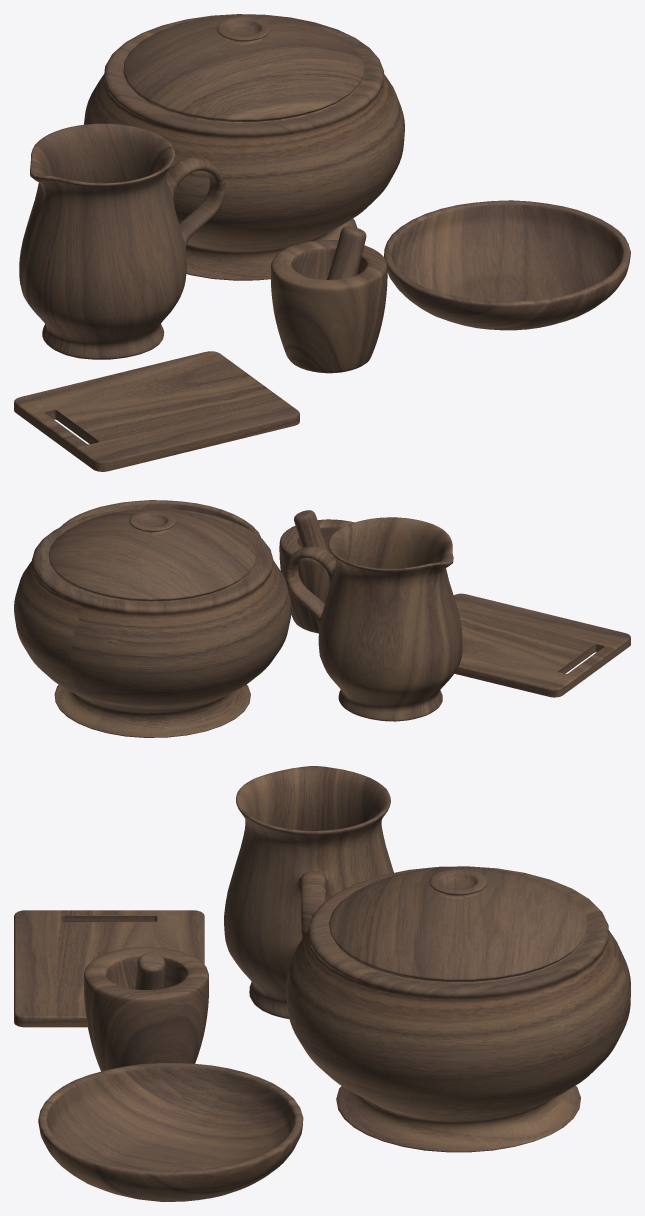
File: household objects.glb
3 views of the same model, one above another, from view 1: azimuth 30°, elevation 25°; view 2: azimuth 150°, elevation 25°; view 3: azimuth 270°, elevation 25° (orthographic). The views are drawn at different scales.
Visible parts, largest first — view 1: Mesh3_lambert10_0, Mesh6_lambert10_0, Mesh1_lambert10_0, pPlane1, polySurface3; view 2: Mesh3_lambert10_0, Mesh6_lambert10_0, pPlane1, polySurface3, Mesh1_lambert10_0; view 3: Mesh3_lambert10_0, Mesh1_lambert10_0, Mesh6_lambert10_0, pPlane1, polySurface3.
Part boxes in pixels (left/top/right/bottom): Mesh3_lambert10_0: left=84, top=14, right=404, bottom=280; Mesh6_lambert10_0: left=19, top=123, right=225, bottom=359; Mesh1_lambert10_0: left=384, top=200, right=630, bottom=330; pPlane1: left=14, top=351, right=299, bottom=471; polySurface3: left=271, top=226, right=387, bottom=373; Mesh3_lambert10_0: left=14, top=508, right=291, bottom=737; Mesh6_lambert10_0: left=285, top=517, right=462, bottom=721; pPlane1: left=453, top=593, right=630, bottom=697; polySurface3: left=279, top=510, right=354, bottom=633; Mesh1_lambert10_0: left=60, top=500, right=260, bottom=537; Mesh3_lambert10_0: left=286, top=866, right=630, bottom=1152; Mesh1_lambert10_0: left=38, top=1063, right=303, bottom=1201; Mesh6_lambert10_0: left=224, top=766, right=393, bottom=1019; pPlane1: left=14, top=910, right=204, bottom=1027; polySurface3: left=83, top=947, right=208, bottom=1071.
Size of what is drawn, in the model's own units: 1.72 by 0.5833 by 1.46.
Materials: 1 (1 with a texture image).
